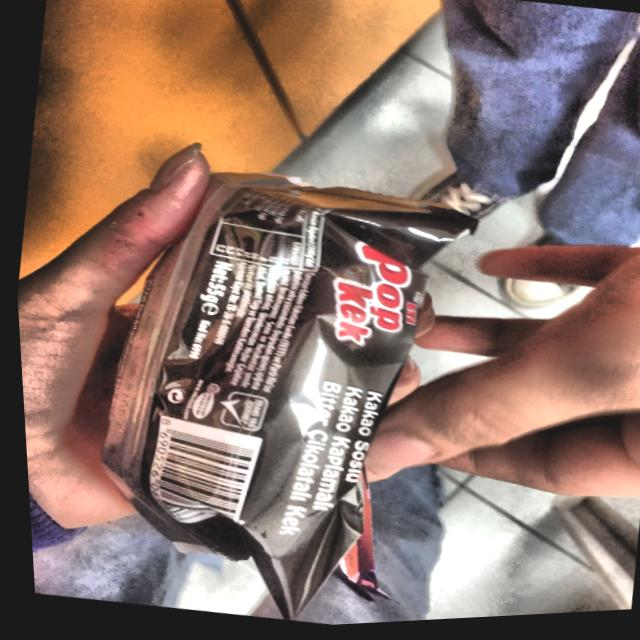Plastic: (14, 95, 573, 640)
